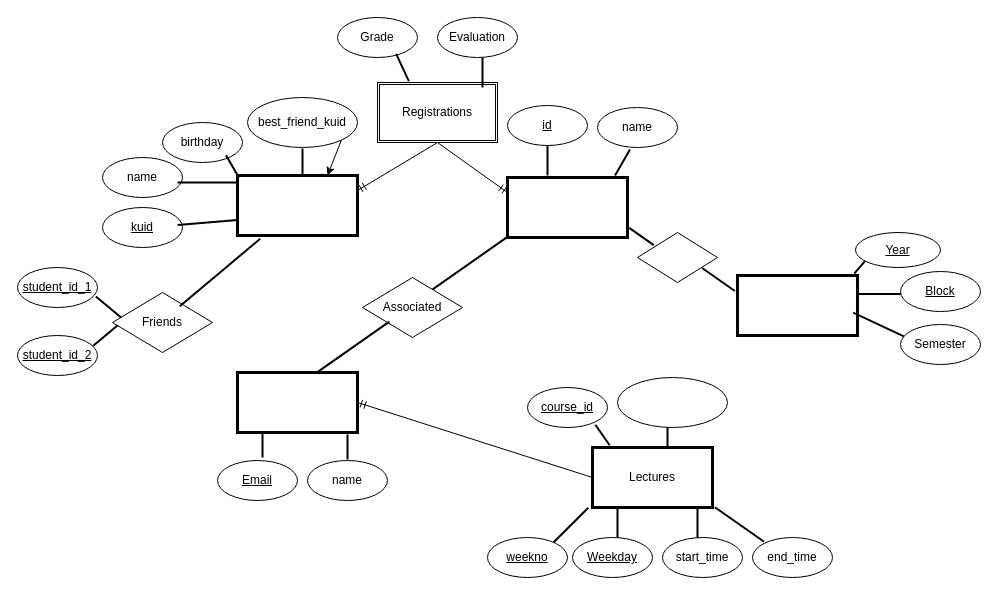
Some shapes in this 998 by 595 pixel diagram are drawn without their labels. Here are the shapes that lost their labels. From the top down, the centre of each, then its label:
At pixel 297 205: "Students".
At pixel 567 207: "Courses".
At pixel 677 257: "Offered".
At pixel 797 305: "Period".
At pixel 297 402: "Lecturers".
At pixel 672 402: "responsible_email".
